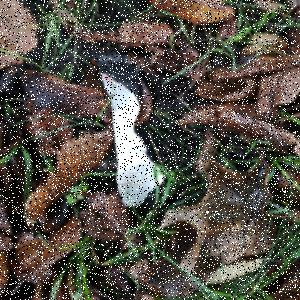Trash: (94, 54, 172, 209)
